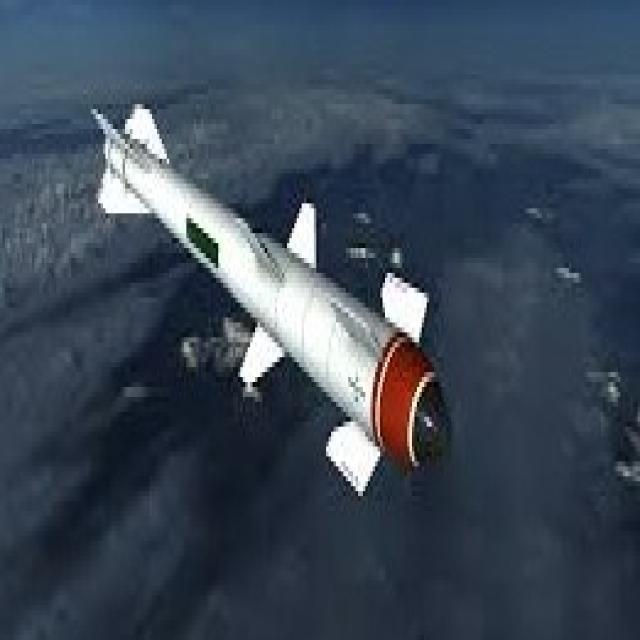missile: (90, 107, 451, 514)
